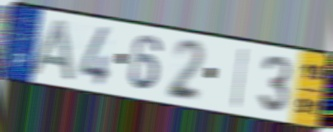2: (167, 38, 208, 103)
3: (256, 54, 294, 114)
4: (77, 24, 115, 88)
6: (129, 33, 162, 92)
A: (26, 17, 77, 85)
I: (230, 46, 250, 110)
